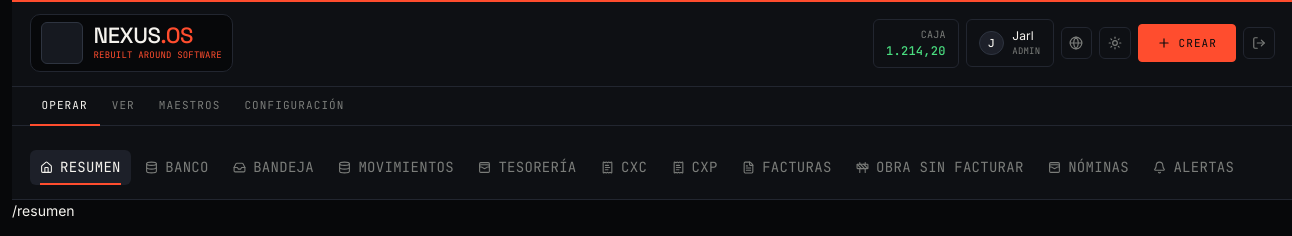
Test: Sidebar — group tabs › navigates to the first permitted item of a group when its tab is clicked
This screenshot has width=1292, height=236.
Click the tab "Ver".
click(123, 106)  # box [100,87,147,126]
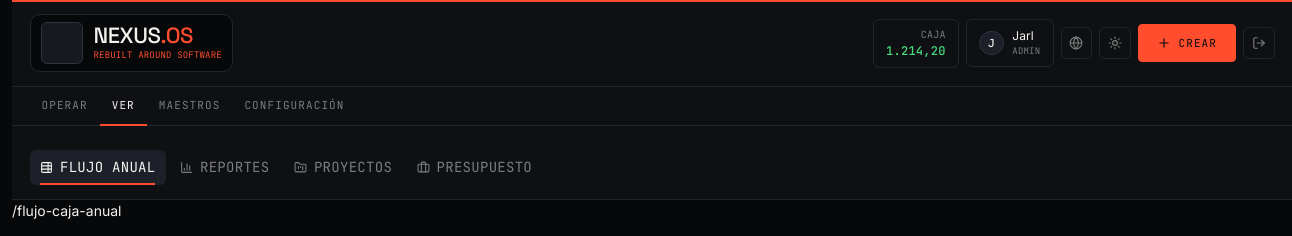
Now the text with test id "location" reads "/flujo-caja-anual", box [12,202,122,218]
Now the button "Proyectos" is shown, box [283,150,402,184]
